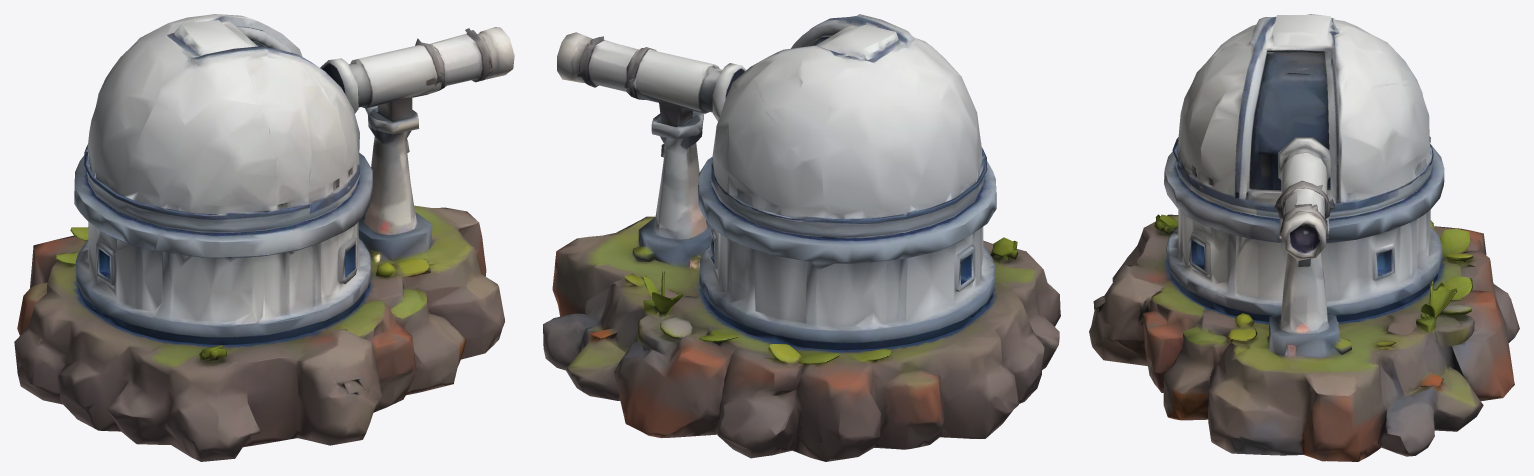
The model's file is observatory.glb.
3 renders of one model, left to right at view 1: azimuth 30°, elevation 25°; view 2: azimuth 150°, elevation 25°; view 3: azimuth 270°, elevation 25°, orthographic. The views are drawn at different scales.
Parts seen in each view (by area): view 1: tripo_node_2e8f5fbd-3cca-4888-90f3-a0adf99657f6; view 2: tripo_node_2e8f5fbd-3cca-4888-90f3-a0adf99657f6; view 3: tripo_node_2e8f5fbd-3cca-4888-90f3-a0adf99657f6.
Boxes of the visible parts, x1,y1,x2,y2 form: tripo_node_2e8f5fbd-3cca-4888-90f3-a0adf99657f6: [14, 14, 514, 461]; tripo_node_2e8f5fbd-3cca-4888-90f3-a0adf99657f6: [543, 14, 1060, 461]; tripo_node_2e8f5fbd-3cca-4888-90f3-a0adf99657f6: [1089, 14, 1519, 461].
Bounding box in the file's own units: 1 × 0.7036 × 0.866.
Materials: 1 (1 with a texture image).
